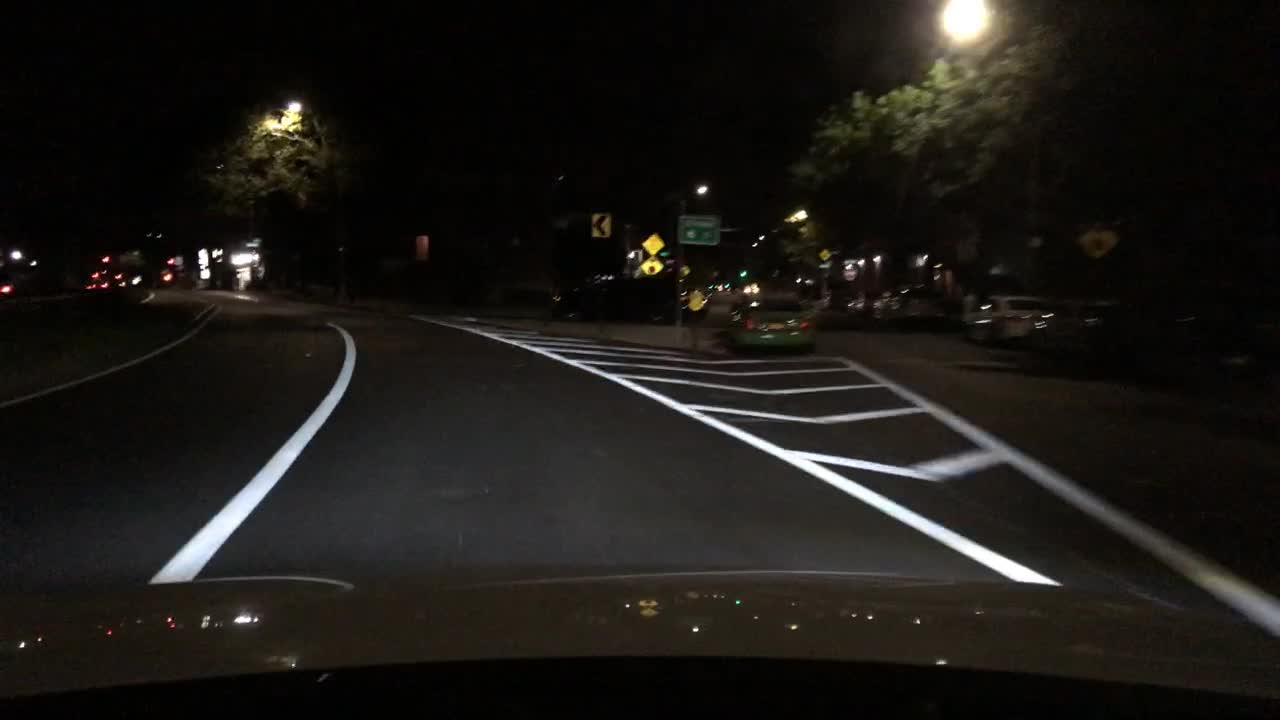car: (1136, 303, 1278, 391), (1029, 292, 1149, 367), (540, 274, 709, 326), (724, 291, 817, 352), (959, 293, 1043, 344), (882, 284, 947, 319)
traffic sign: (1076, 221, 1121, 258), (636, 230, 668, 277), (679, 216, 720, 246), (588, 209, 609, 239), (415, 233, 428, 262), (819, 246, 832, 261)
